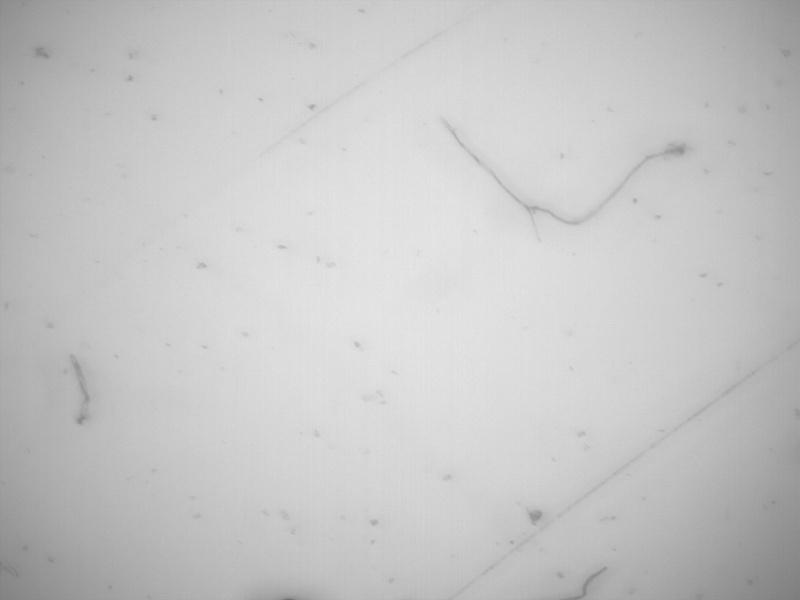fiber: (441, 337, 798, 599), (254, 1, 493, 161), (436, 113, 693, 247), (537, 563, 610, 600), (68, 348, 93, 429)
